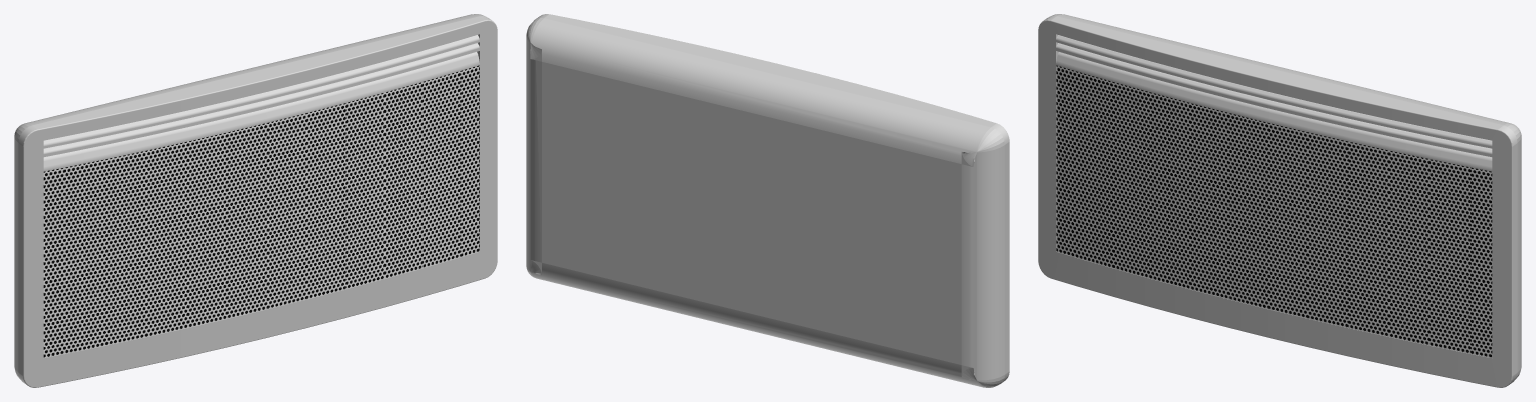
File: heater_large.glb
The picture shows the model from 3 angles, left to right: view 1: azimuth 30°, elevation 25°; view 2: azimuth 150°, elevation 25°; view 3: azimuth 330°, elevation 25°; orthographic projection.
Visible parts, largest first — view 1: Geom3D, Geom3D_Composant#4, Geom3D_Composant#2; view 2: Geom3D_Composant#2, Geom3D_Composant#4; view 3: Geom3D, Geom3D_Composant#4, Geom3D_Composant#2.
Part boxes in pixels (box(x1,y1,x2,y2)): Geom3D: box(43, 65, 479, 357); Geom3D_Composant#4: box(20, 17, 497, 387); Geom3D_Composant#2: box(14, 14, 489, 382); Geom3D_Composant#2: box(526, 16, 1007, 387); Geom3D_Composant#4: box(538, 14, 1009, 381); Geom3D: box(1056, 65, 1492, 357); Geom3D_Composant#4: box(1038, 17, 1515, 387); Geom3D_Composant#2: box(1046, 14, 1521, 382).
Size of the model in its own units: 0.865 by 0.45 by 0.088.
1 material, 1 textured.
